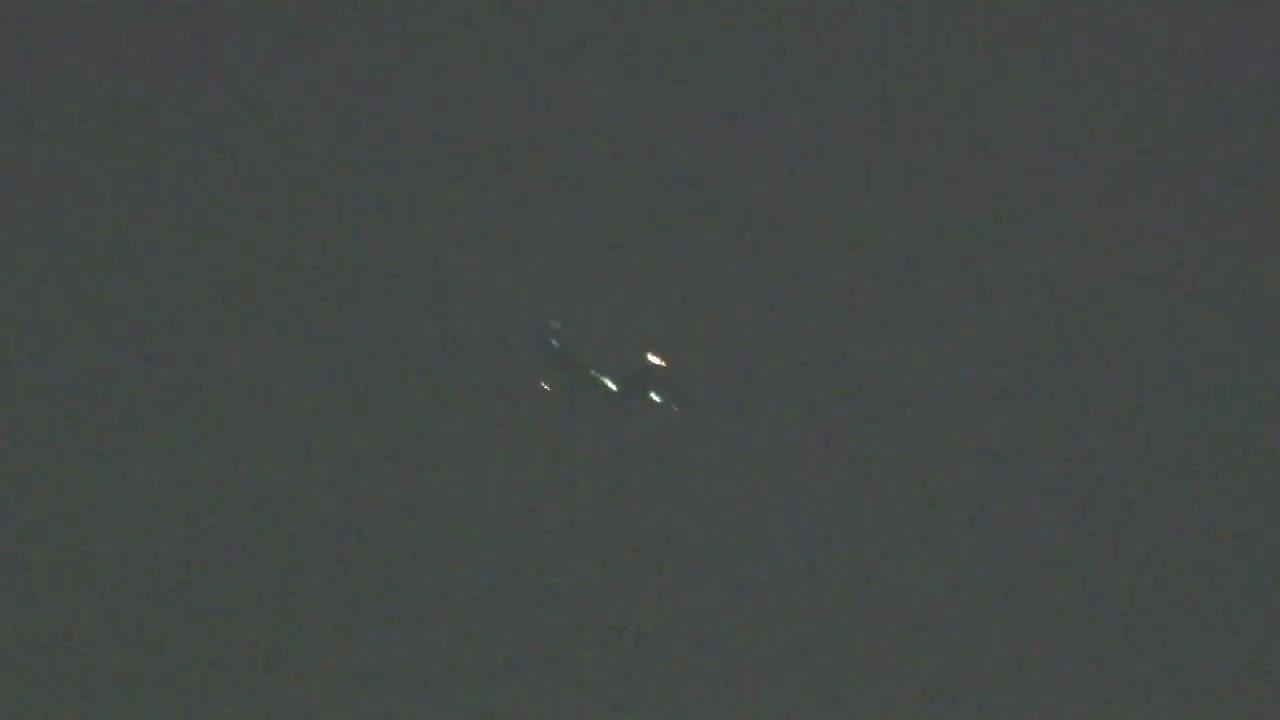Plane: (527, 329, 731, 433)
